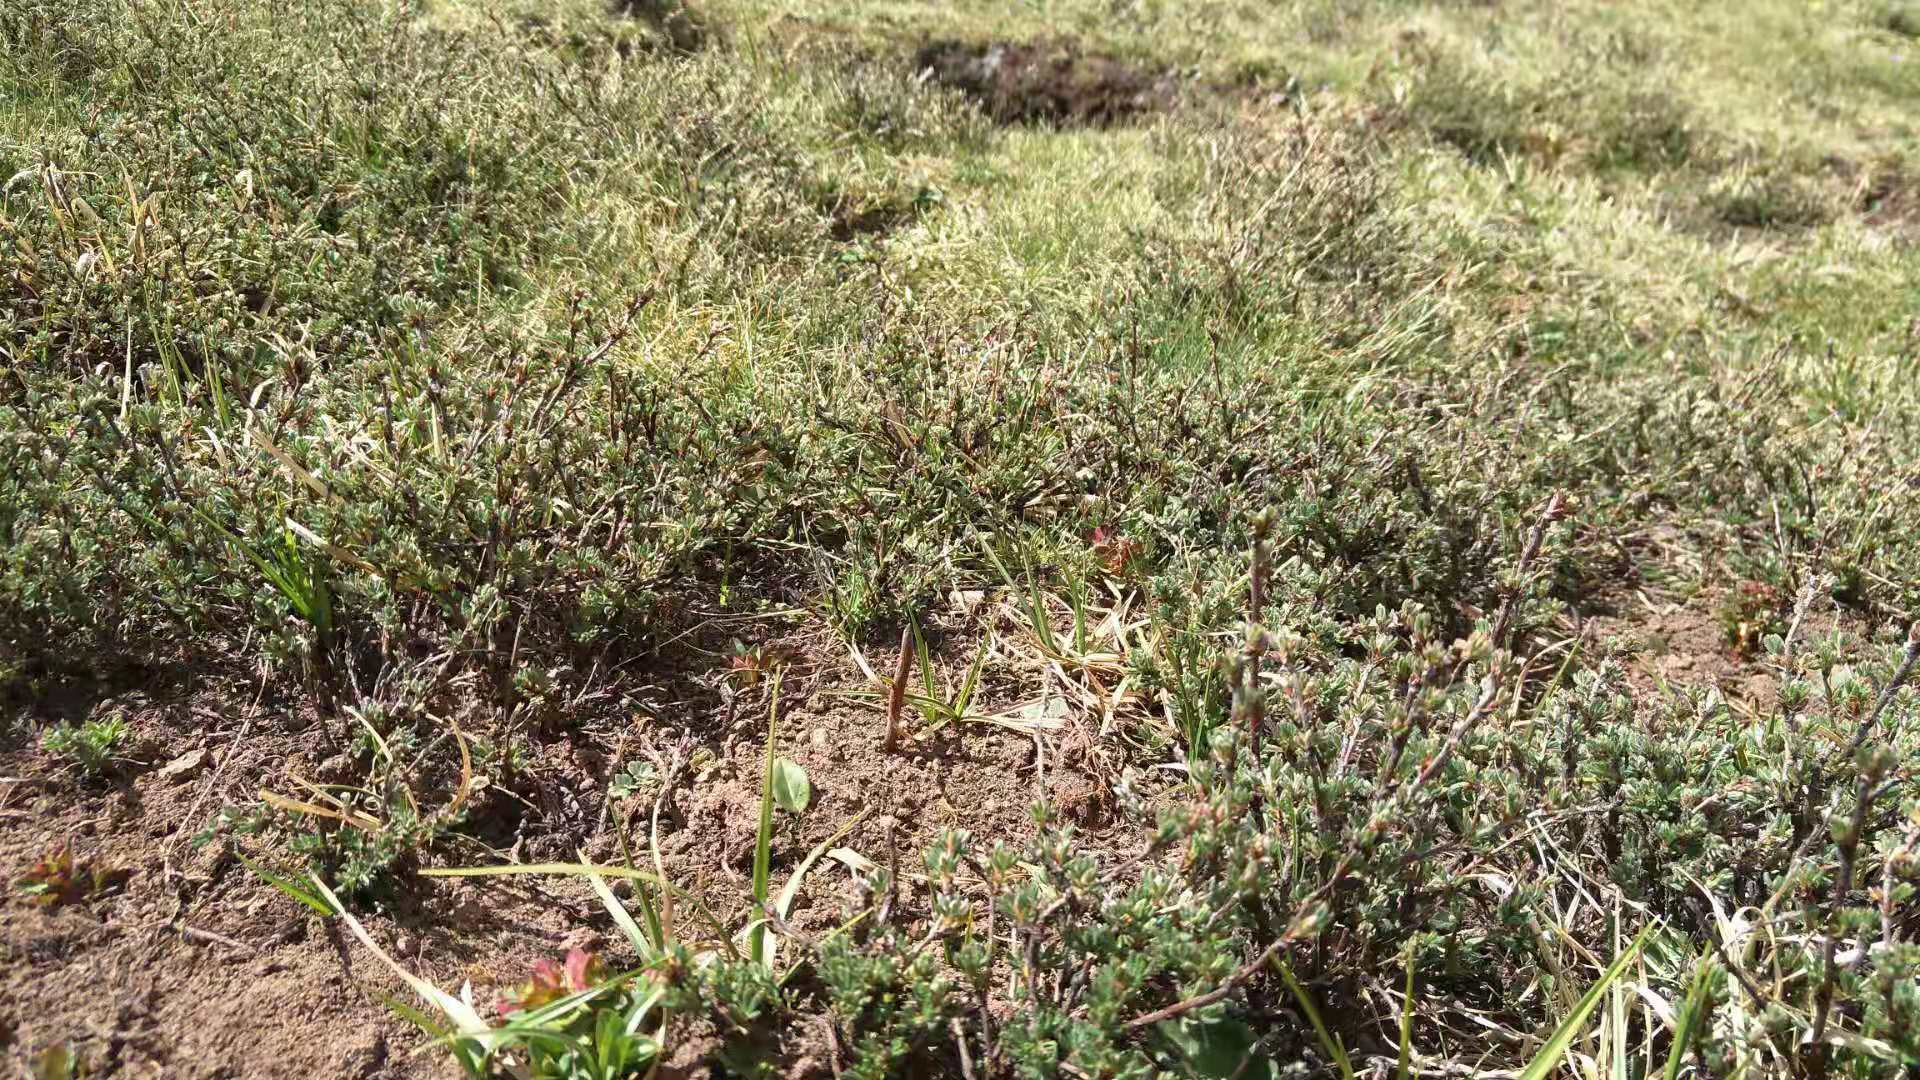cpf: (881, 626, 916, 750)
